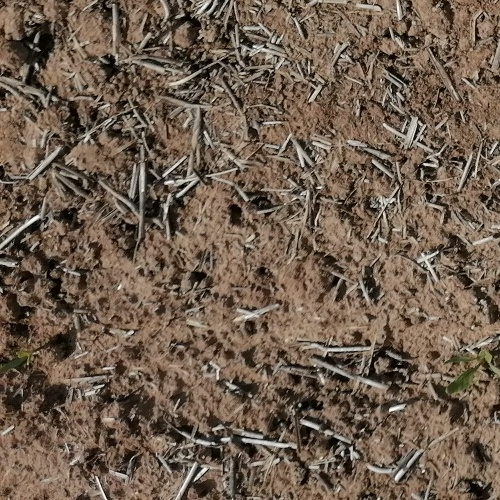beet: (443, 347, 499, 394), (0, 345, 51, 372)
